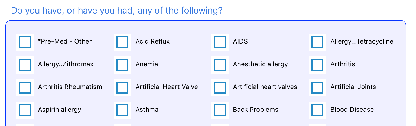checkbox: (212, 103, 228, 118), (309, 103, 325, 118), (17, 57, 32, 72), (310, 34, 325, 49), (17, 35, 32, 49), (18, 80, 32, 95), (17, 103, 32, 117), (115, 103, 130, 117), (115, 81, 130, 95), (213, 80, 227, 95), (310, 57, 324, 72), (115, 58, 129, 72), (213, 35, 227, 49), (213, 58, 227, 72), (311, 80, 324, 95), (116, 35, 129, 49)
